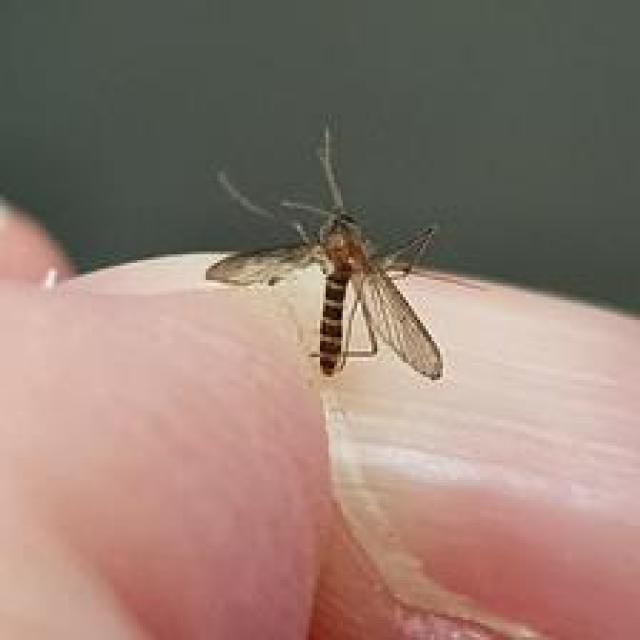Culex: (205, 118, 484, 382)
